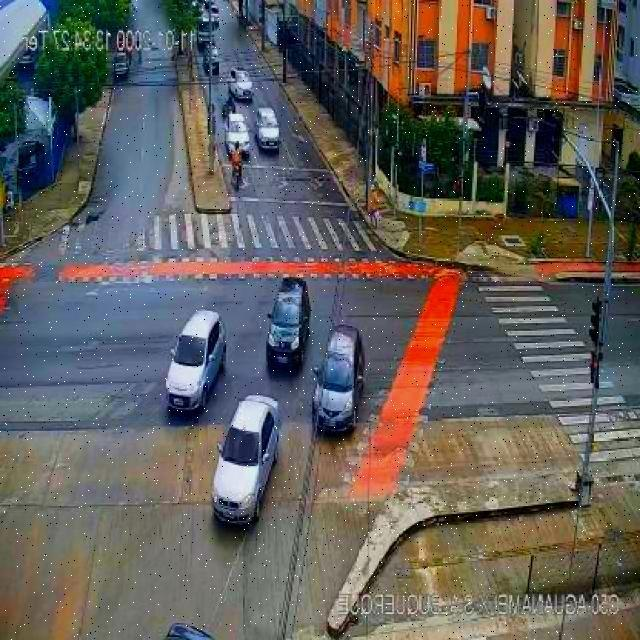Car: (210, 396, 282, 526), (165, 309, 227, 413), (310, 326, 365, 433), (265, 277, 311, 371), (225, 113, 251, 156), (254, 108, 280, 150), (228, 69, 252, 101), (202, 42, 220, 72), (112, 52, 130, 80), (207, 2, 220, 24)
